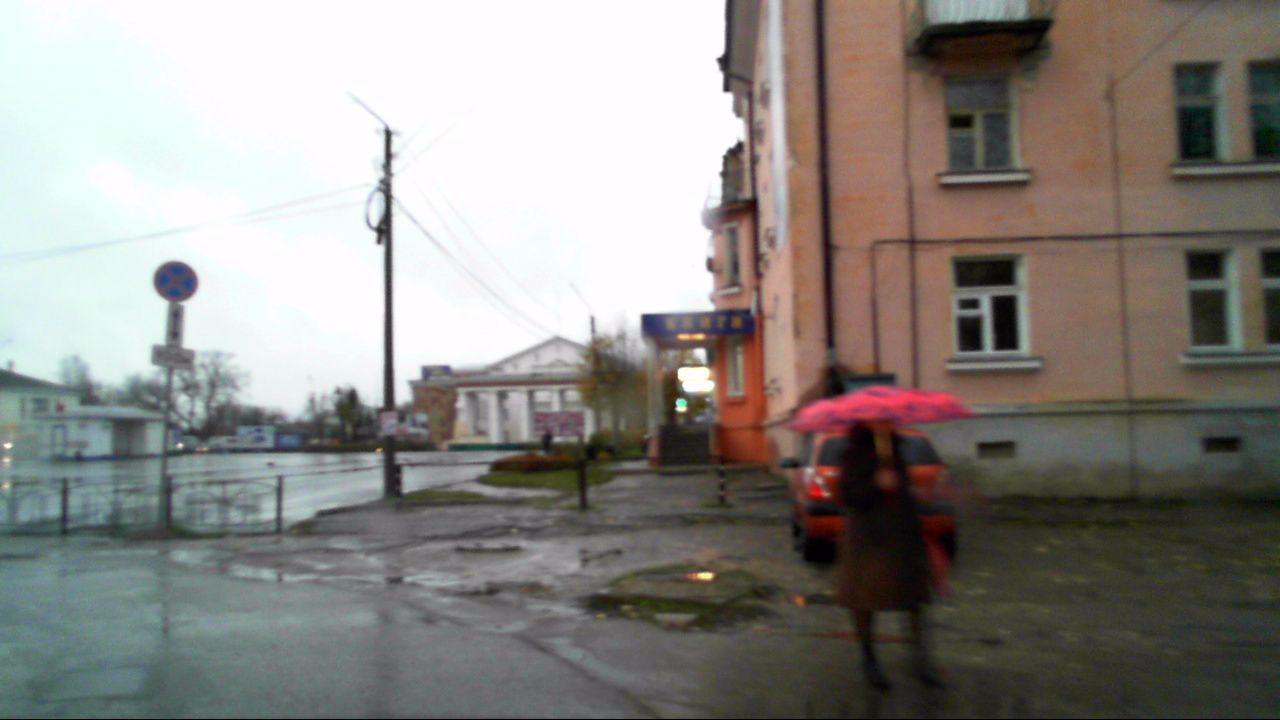No Parking: (154, 261, 197, 302)
